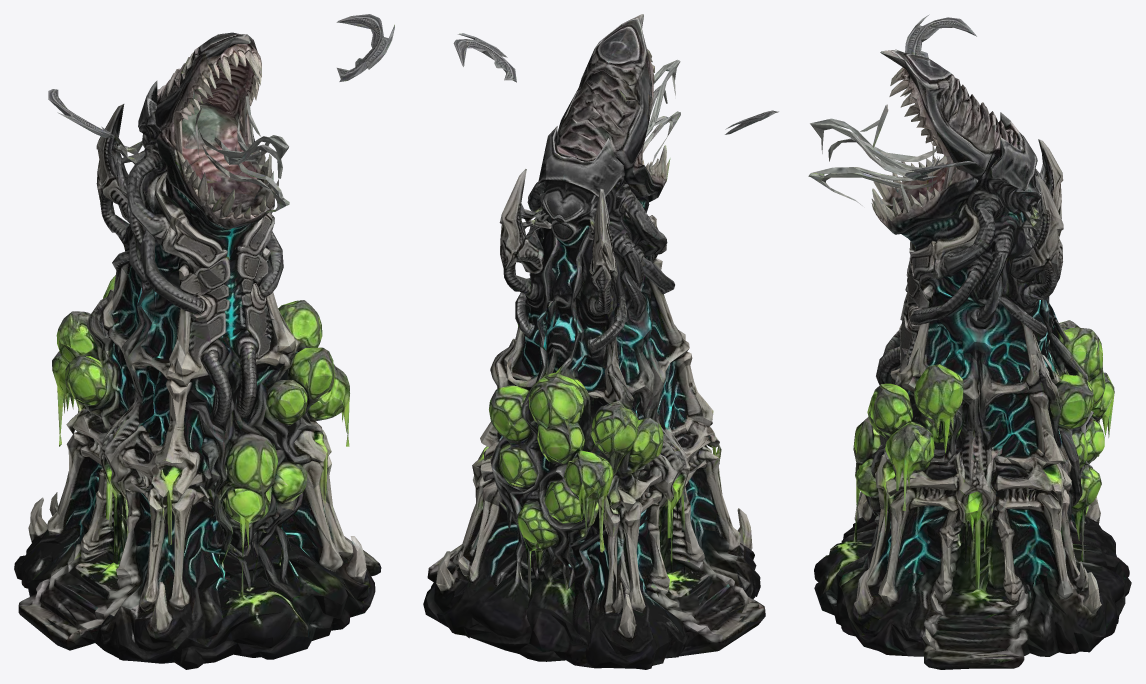
The model's file is model.opt.c.glb.
The picture shows the model from 3 angles, left to right: view 1: azimuth 30°, elevation 25°; view 2: azimuth 150°, elevation 25°; view 3: azimuth 270°, elevation 25°; orthographic projection. The views are drawn at different scales.
Visible parts, largest first — view 1: Mesh_0; view 2: Mesh_0; view 3: Mesh_0.
Boxes of the visible parts, box(x1,y1,x2,y2) form: Mesh_0: box(14, 14, 394, 669); Mesh_0: box(423, 14, 778, 669); Mesh_0: box(808, 14, 1131, 669).
Size of the model in its own units: 1.16 by 1.9 by 1.02.
1 material, 1 textured.
